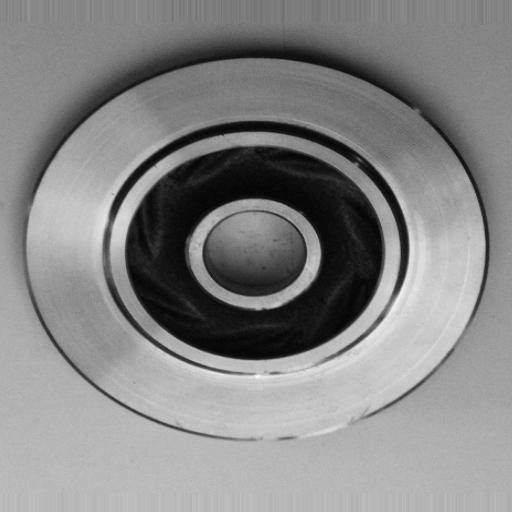scratch: (253, 410, 374, 464), (235, 354, 327, 385)
unpolished_casting: (16, 55, 499, 444)
